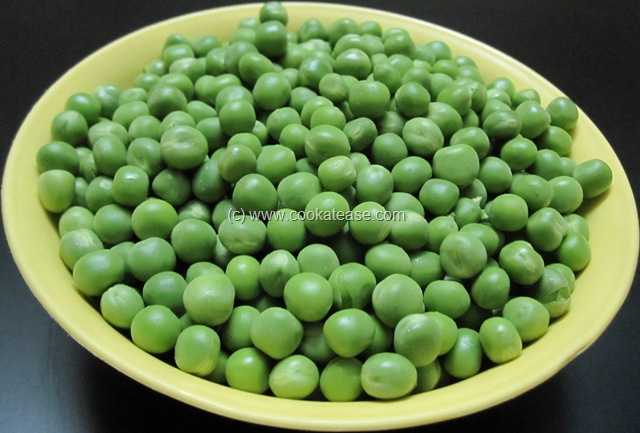boiled peas: (127, 74, 519, 327)
